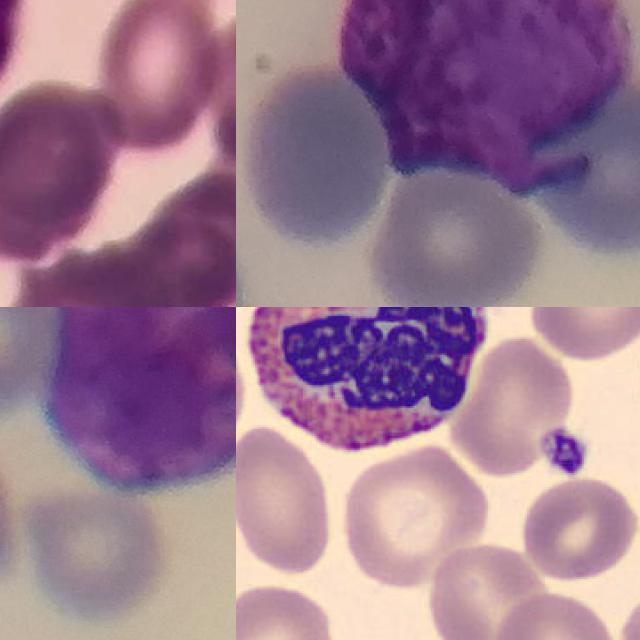Basophil: (337, 0, 635, 193), (44, 307, 236, 496)
Eosinophil: (236, 307, 498, 464)
Platelets: (538, 426, 593, 479)
RBC: (337, 442, 495, 590), (447, 332, 579, 480), (236, 422, 337, 579), (518, 474, 640, 582), (424, 540, 554, 640), (486, 587, 624, 640), (521, 307, 640, 362), (236, 579, 338, 640), (615, 578, 640, 640)
